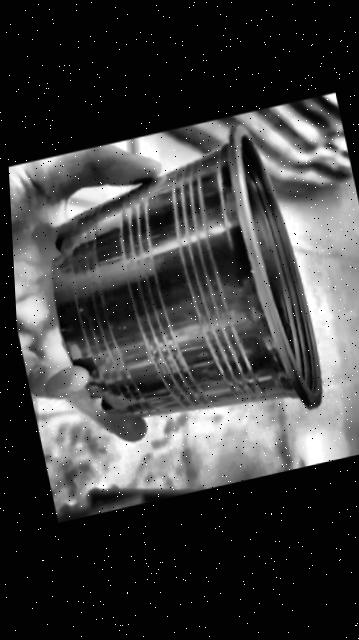pot: (51, 126, 320, 416)
